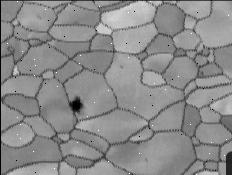good_void: (64, 95, 85, 117), (3, 44, 17, 56), (116, 62, 125, 70), (141, 156, 149, 163), (197, 69, 204, 77)
